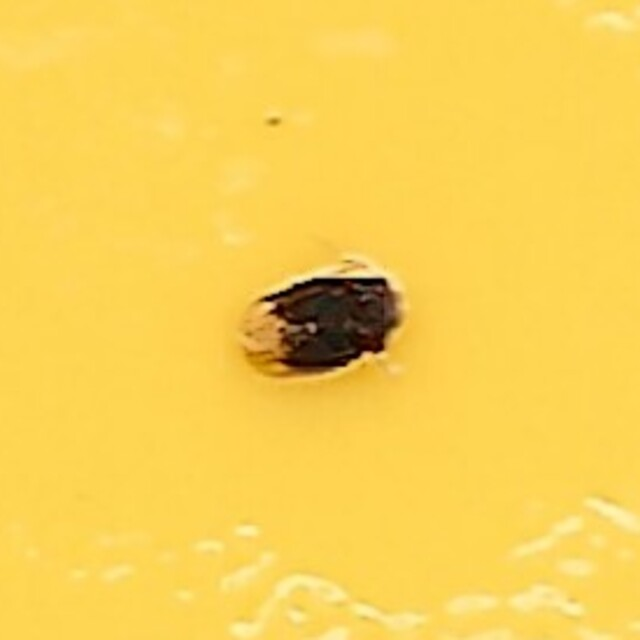Hemiptera: (233, 260, 407, 380)
